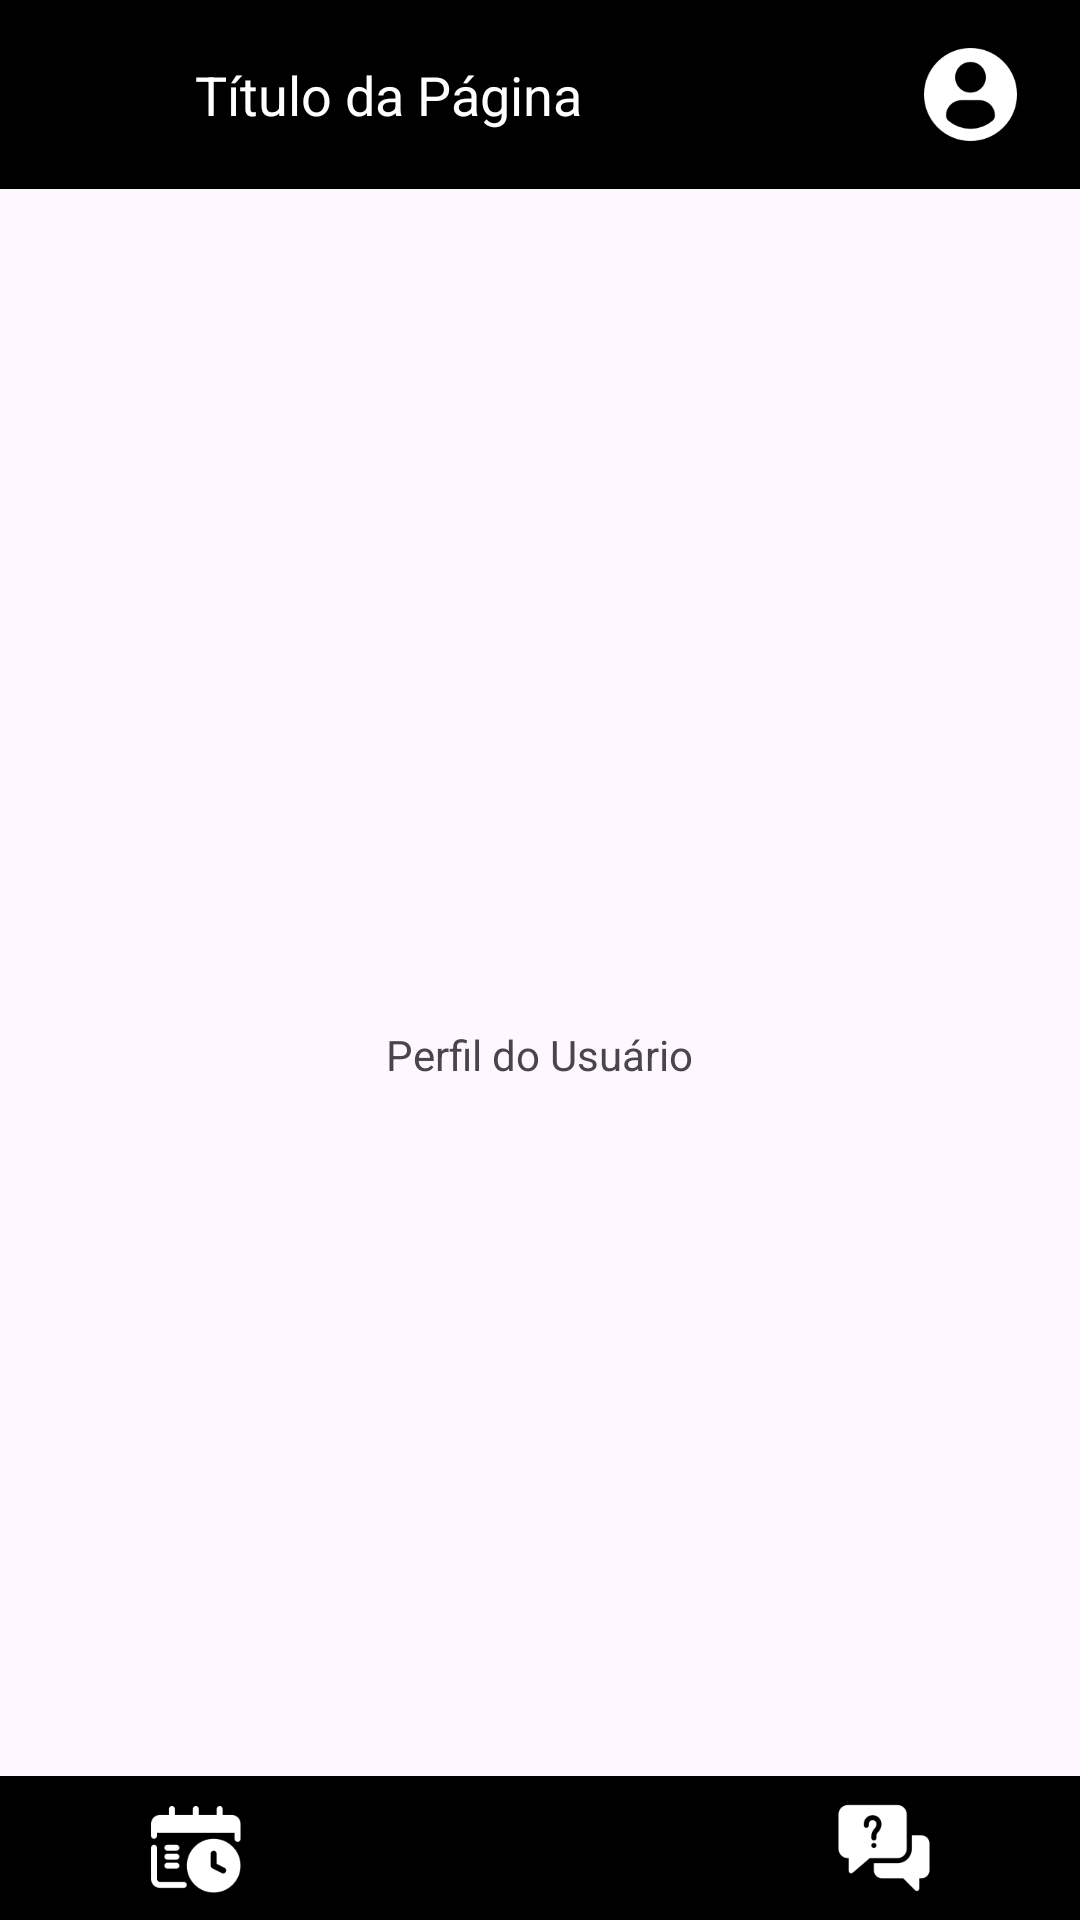

Point at icon controls on the screen. Image size 1080 x 1920, points as point (x, y).
Faq Bottom: point (884, 1847)
User Icon: point (970, 94)
